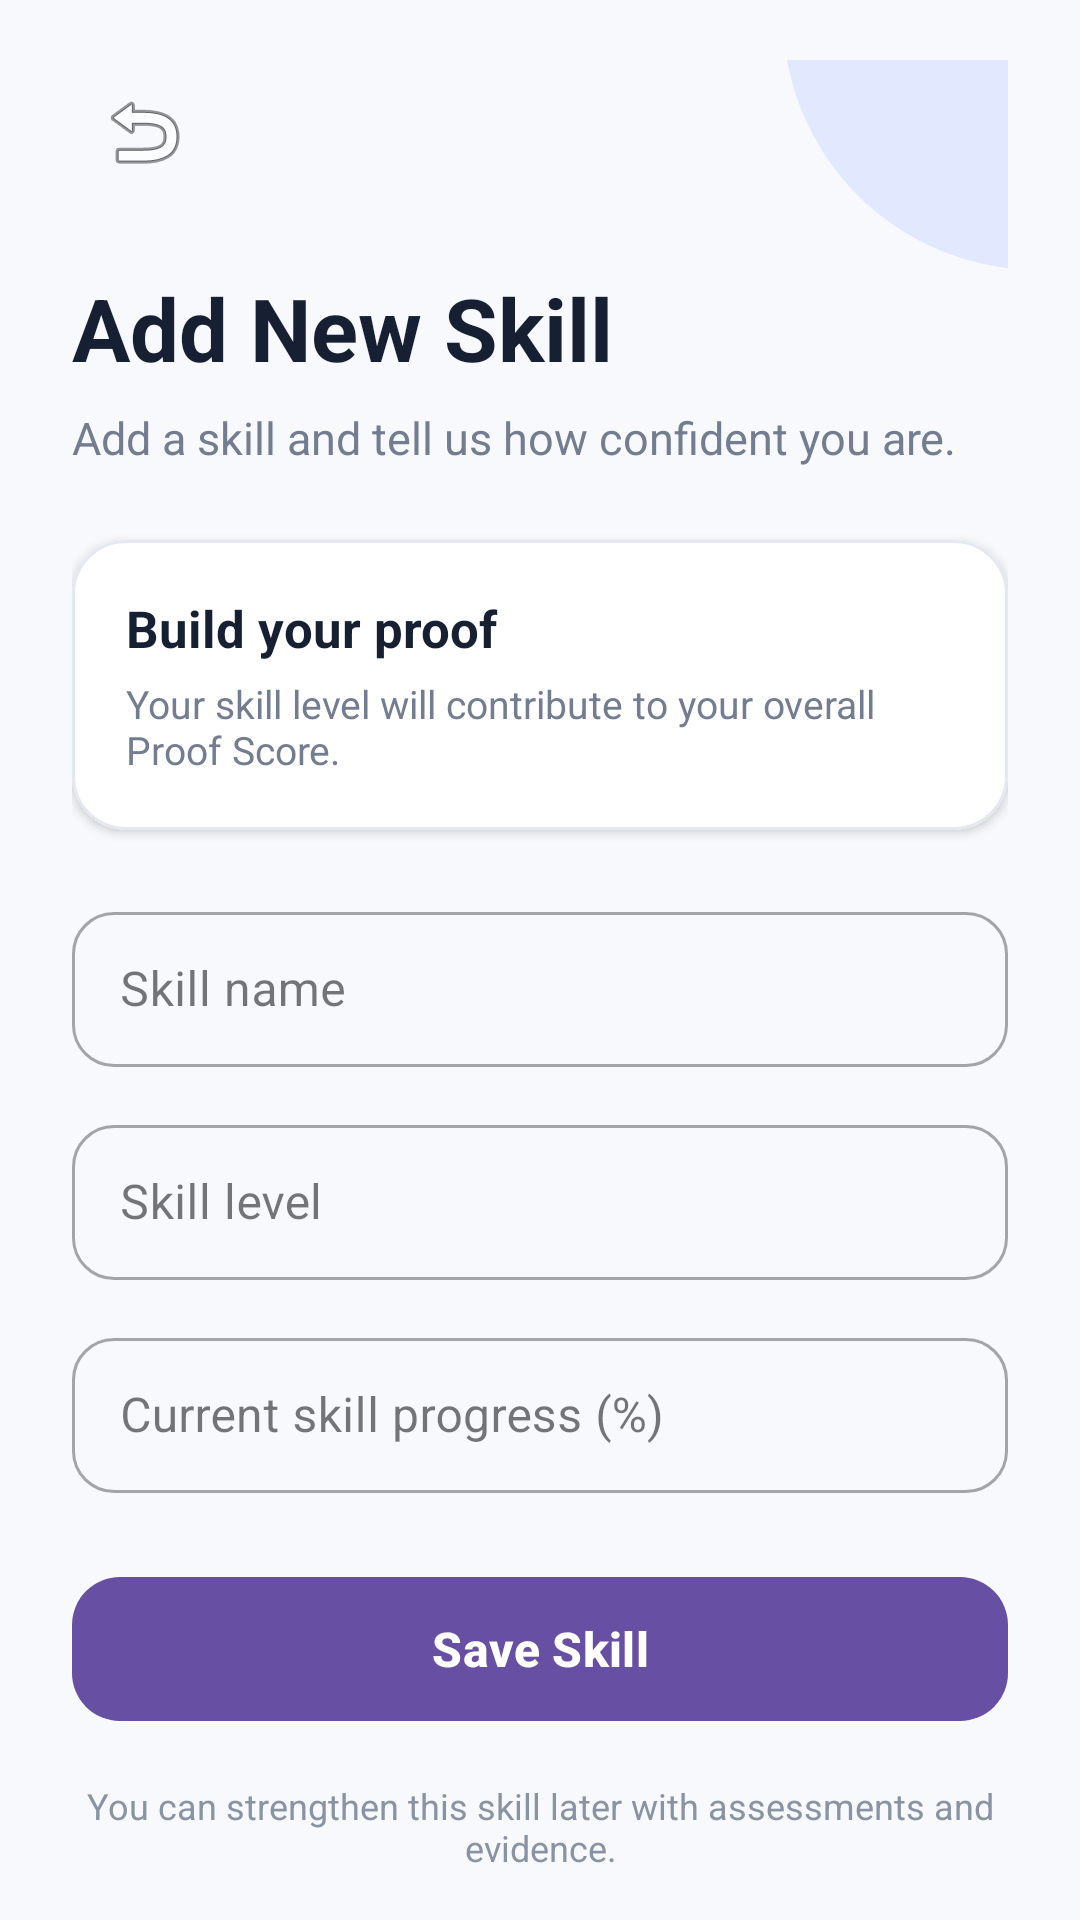

Screen size 1080×1920. Icon name, then its center in pixels as point (x, y):
Back: point (145, 132)
